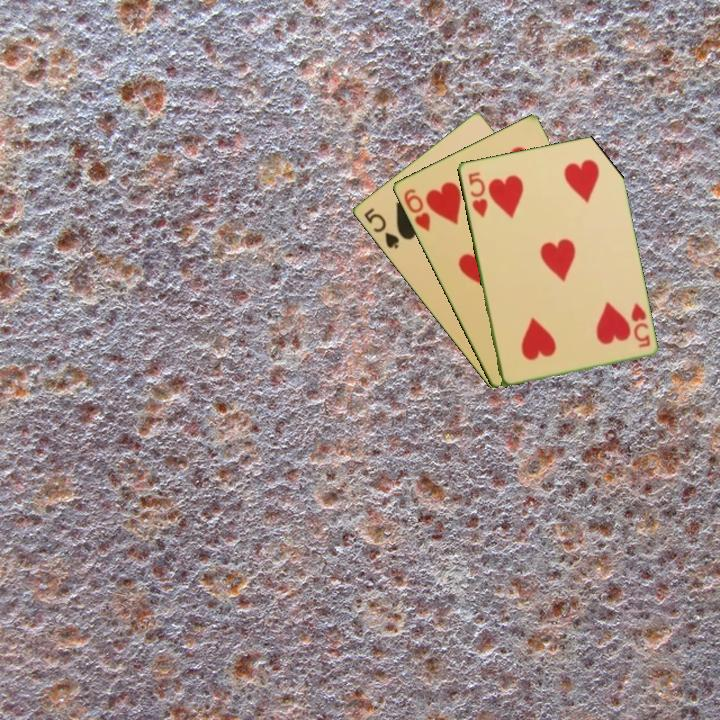5h: (464, 168, 490, 220), (627, 299, 653, 350)
5s: (360, 204, 402, 252)
6h: (400, 185, 433, 234)
